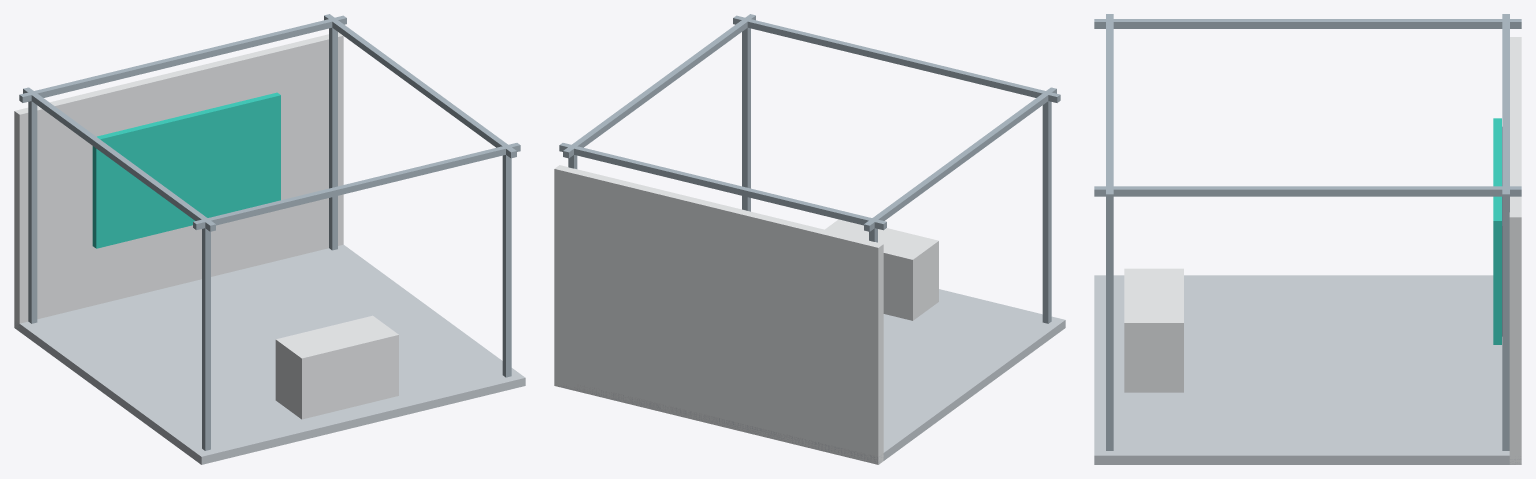
The picture shows the model from 3 angles, left to right: view 1: azimuth 30°, elevation 25°; view 2: azimuth 150°, elevation 25°; view 3: azimuth 270°, elevation 25°; orthographic projection. The views are drawn at different scales.
Visible parts, largest first — view 1: Exhibition Booth Concept; view 2: Exhibition Booth Concept; view 3: Exhibition Booth Concept.
Part boxes in pixels (x1,y1,x2,y2): Exhibition Booth Concept: [14, 14, 525, 464]; Exhibition Booth Concept: [554, 14, 1065, 464]; Exhibition Booth Concept: [1094, 14, 1521, 464].
Size of the model in its own units: 5 by 3.49 by 5.
